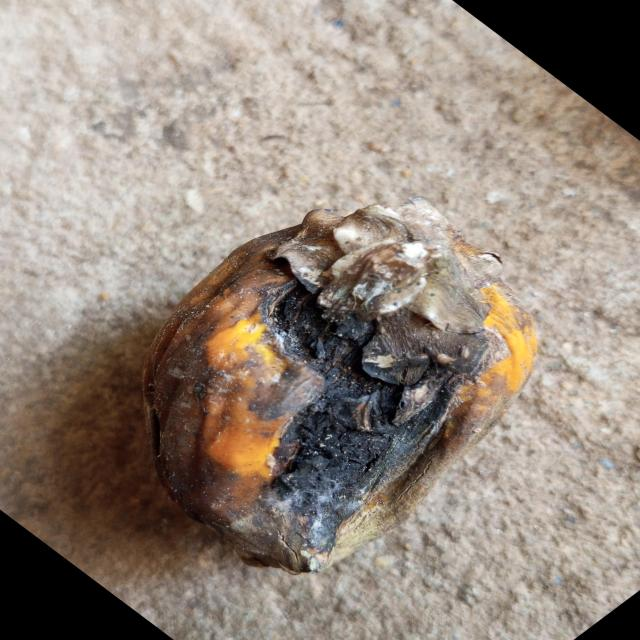damaged: (144, 198, 536, 573)
